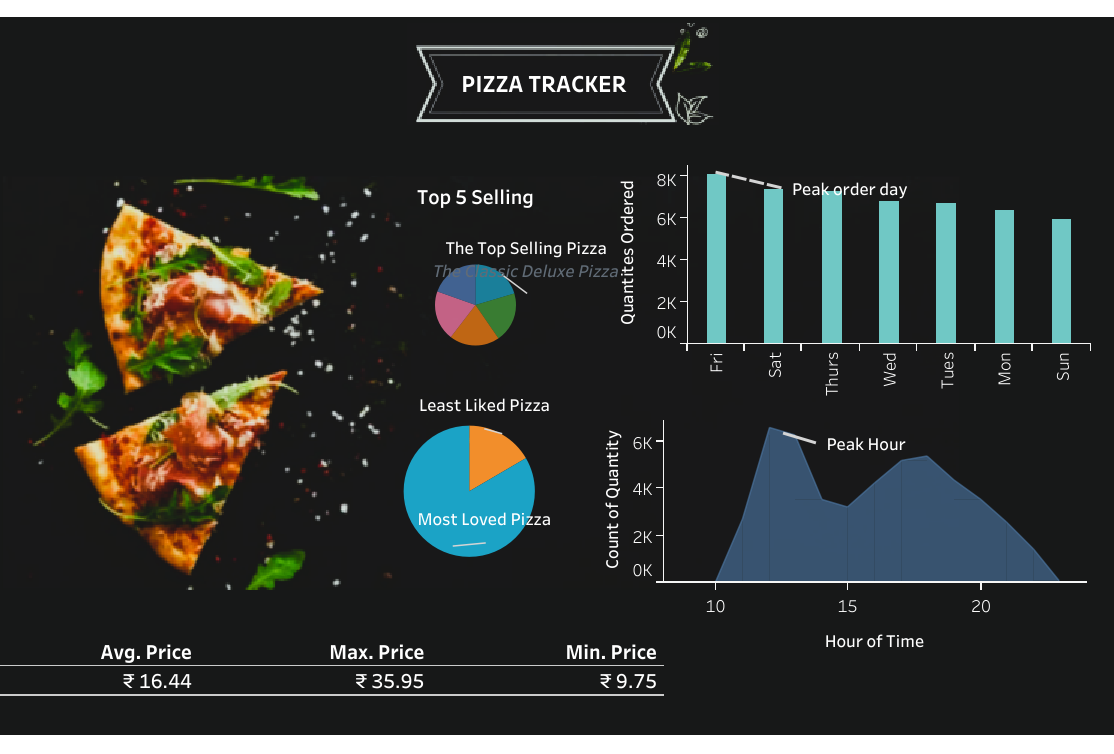

What the dashboard file says about the page in this screenshot:
{"tool":"tableau","page":{"name":"Dashboard 3 (2)","canvas":[1000,1000],"units":"permille","ordinal":2},"visuals":[{"type":"image","param":"Image/Screenshot (17).png","box":[0,19.8,982.6,855.8]},{"type":"image","param":"Image/Screenshot (18).png","box":[50.4,26.1,552.2,122.6]},{"type":"text","box":[265.2,79.5,150.4,35.2]},{"type":"worksheet","title":"Maxorderday","mark":"Automatic","rows":["quantity"],"cols":["Calculation_1471551195153444865"],"box":[350.4,196.9,281.7,282.9]},{"type":"worksheet","title":"top 5elling","mark":"Pie","box":[167,204.7,217.4,254.2]},{"type":"worksheet","title":"Worstselling","mark":"Pie","box":[183.5,425,176.5,319.4]},{"type":"worksheet","title":"maxordertime","mark":"Area","rows":["quantity"],"cols":["time"],"box":[341.7,499.4,287.8,288.1]}]}

Visuals, with their boxes on the dashboard's canvas, which has no fixed pixel size, in thousandths of its width and height (x1, y1, x2, y2). These are canvas units, not pixel positions in the 1114x754 screenshot, which may show the page scaled, cropped or inside an application window:
image: <box>0,20,983,876</box>
image: <box>50,26,603,149</box>
text: <box>265,80,416,115</box>
"Maxorderday" worksheet: <box>350,197,632,480</box>
"top 5elling" worksheet (Pie marks): <box>167,205,384,459</box>
"Worstselling" worksheet (Pie marks): <box>184,425,360,744</box>
"maxordertime" worksheet (Area marks): <box>342,499,630,788</box>
